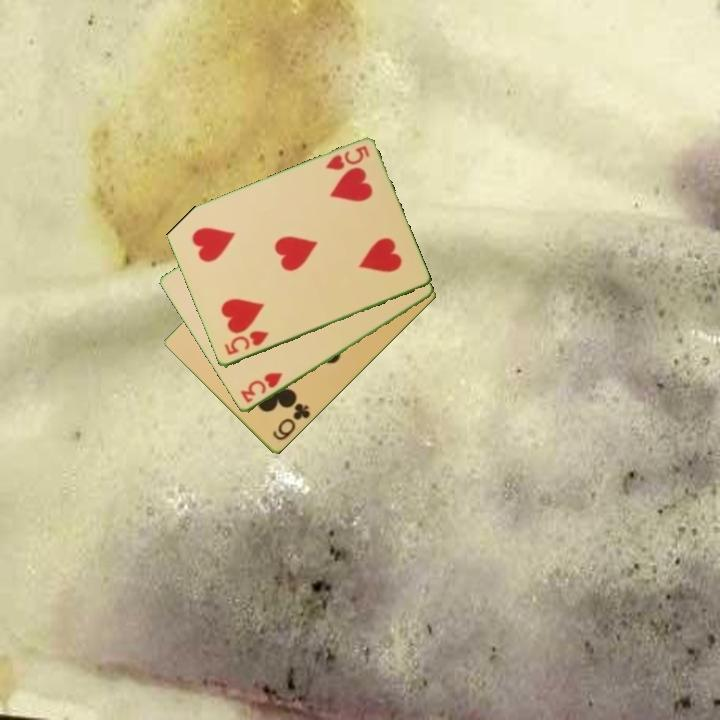3h: (237, 369, 286, 406)
5h: (220, 327, 271, 358), (321, 143, 372, 174)
6c: (269, 400, 313, 444)
